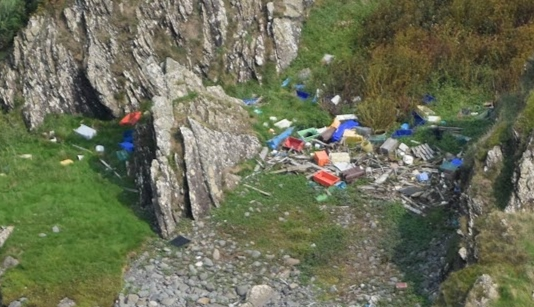scattered_barrel: (56, 104, 145, 177), (278, 51, 370, 105)
together_barrel: (242, 93, 465, 196)
